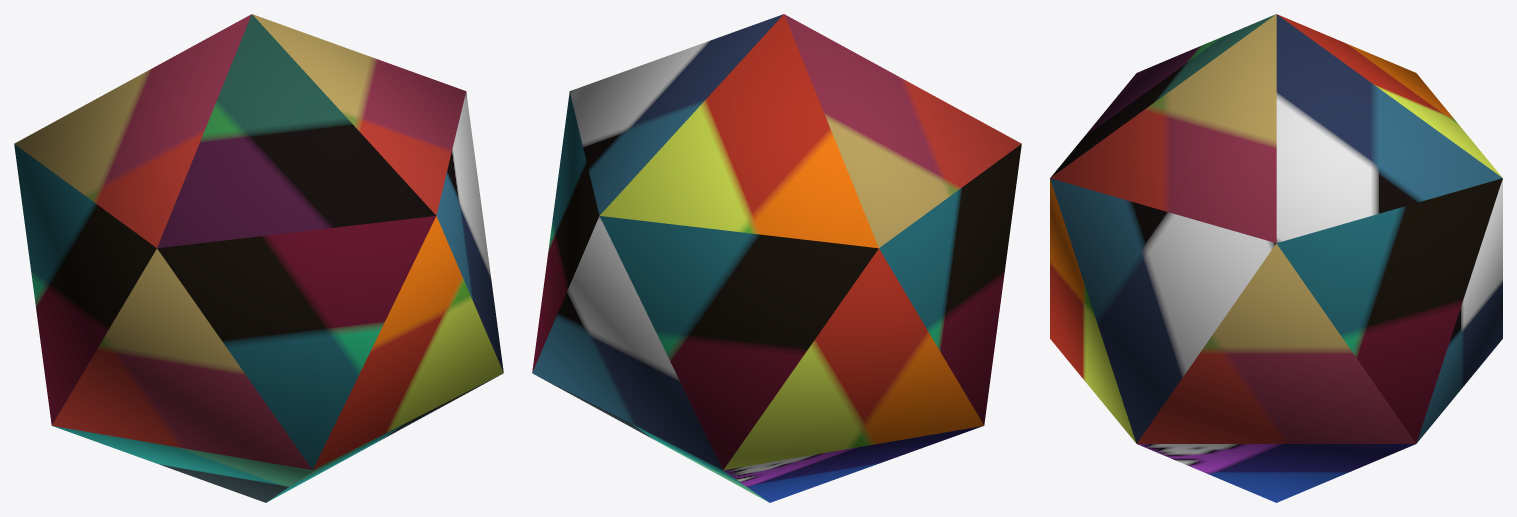
Rendered from gem.fbx.
3 renders of one model, left to right at view 1: azimuth 30°, elevation 25°; view 2: azimuth 150°, elevation 25°; view 3: azimuth 270°, elevation 25°, orthographic. The views are drawn at different scales.
Visible parts, largest first — view 1: gem; view 2: gem; view 3: gem.
Part boxes in pixels (x1,y1,x2,y2): gem: [14, 14, 503, 502]; gem: [532, 14, 1021, 502]; gem: [1050, 14, 1502, 502].
Bounding box in the file's own units: 91.32 × 104 × 88.21.
1 material, 1 textured.
